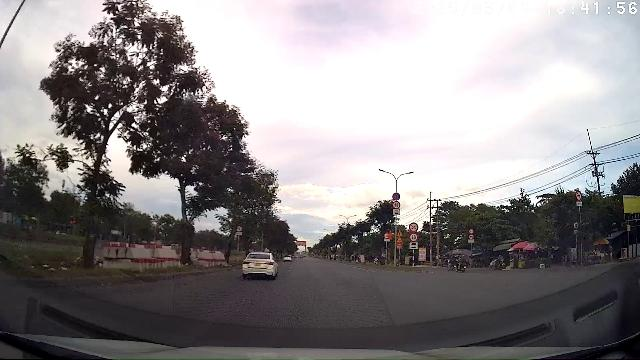127-toc-do-toi-da-60: (409, 232, 418, 241)
127-toc-do-toi-da-80: (392, 201, 400, 209)
